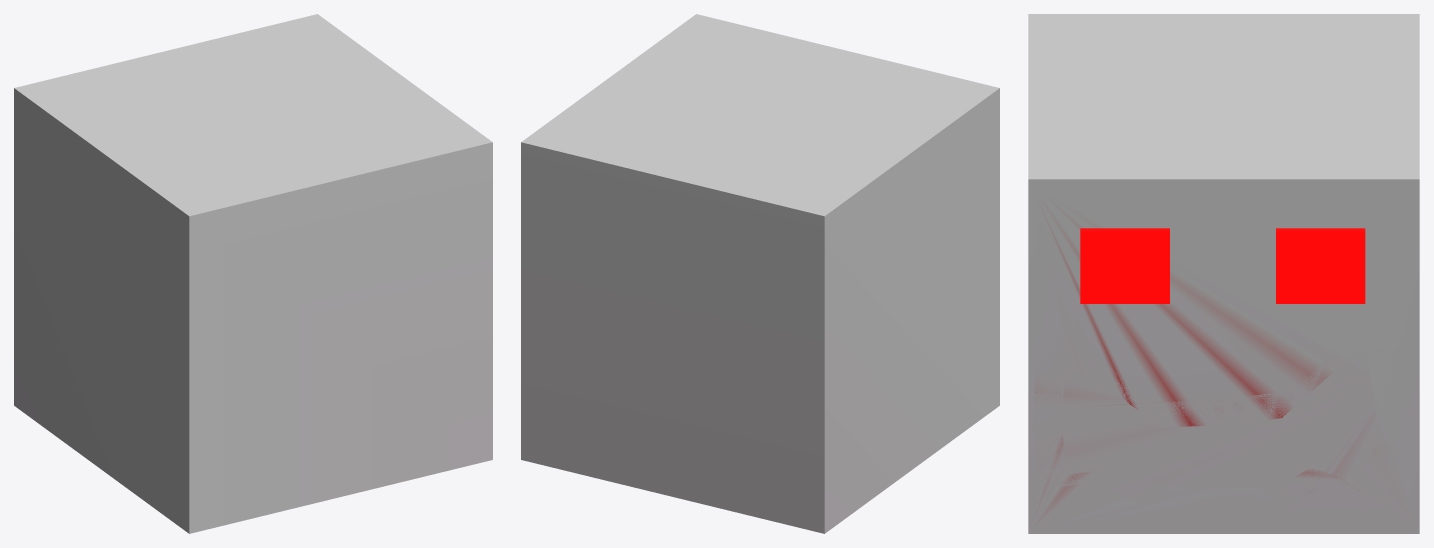
Rendered from monster_head.fbx.
The picture shows the model from 3 angles, left to right: view 1: azimuth 30°, elevation 25°; view 2: azimuth 150°, elevation 25°; view 3: azimuth 270°, elevation 25°; orthographic projection. The views are drawn at different scales.
Parts seen in each view (by area): view 1: Cube; view 2: Cube; view 3: Cube, Cube.001, Cube.002.
Part boxes in pixels (bbox=[...]): Cube: bbox=[14, 14, 492, 533]; Cube: bbox=[521, 14, 999, 533]; Cube: bbox=[1028, 14, 1419, 533]; Cube.001: bbox=[1276, 228, 1365, 303]; Cube.002: bbox=[1080, 228, 1169, 303].
Bounding box in the file's own units: 272 × 266 × 266.
